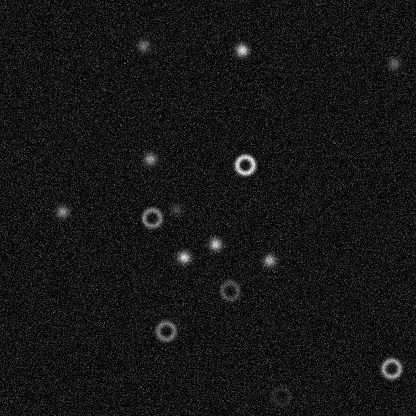Ring: (269, 384, 293, 408), (379, 356, 403, 380), (232, 152, 256, 176), (139, 205, 163, 229), (217, 278, 241, 302), (153, 318, 177, 342)
Spot: (261, 252, 277, 268), (54, 203, 70, 219), (135, 37, 151, 53), (168, 201, 184, 217), (207, 236, 223, 252), (142, 150, 158, 166), (175, 249, 191, 265), (385, 55, 401, 71), (233, 41, 249, 57)
